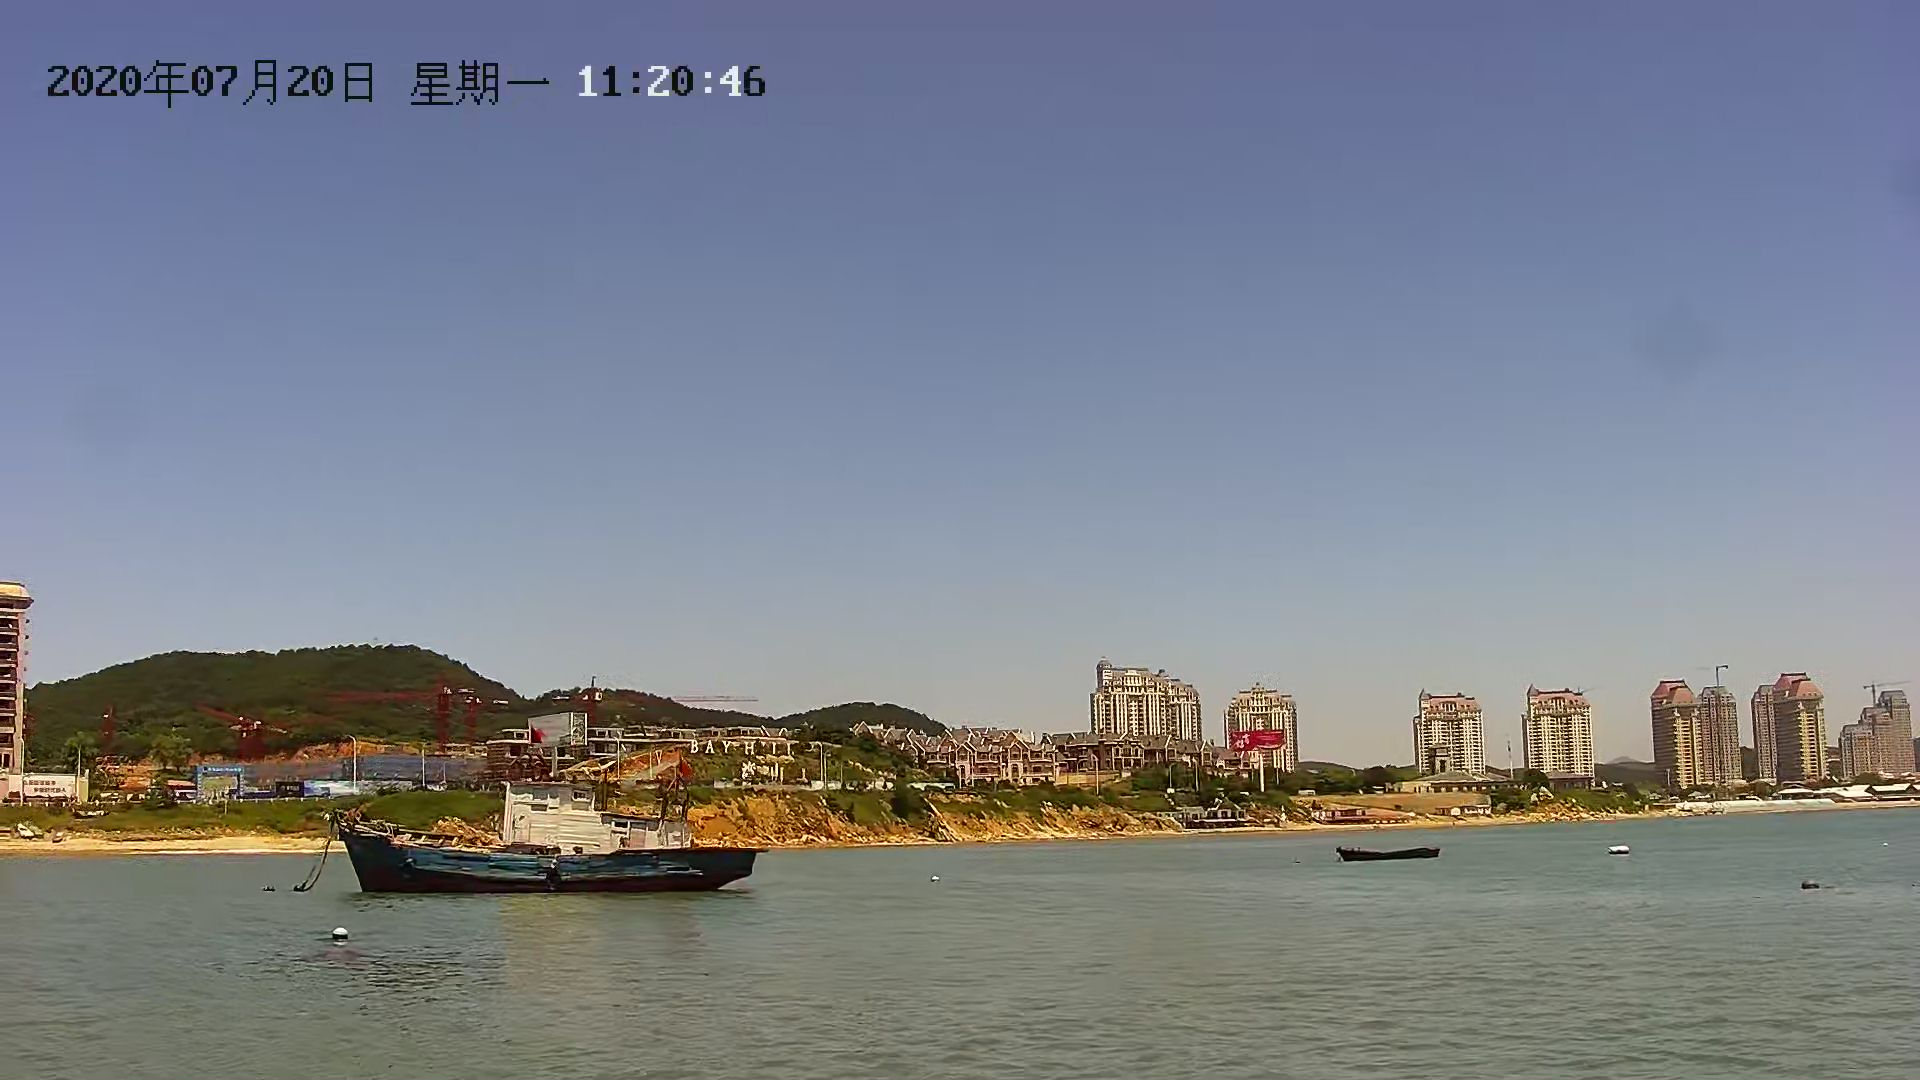ball: (1605, 833, 1636, 855), (327, 924, 351, 947), (1797, 872, 1817, 895)
boat: (301, 804, 771, 906), (1331, 843, 1447, 866)
